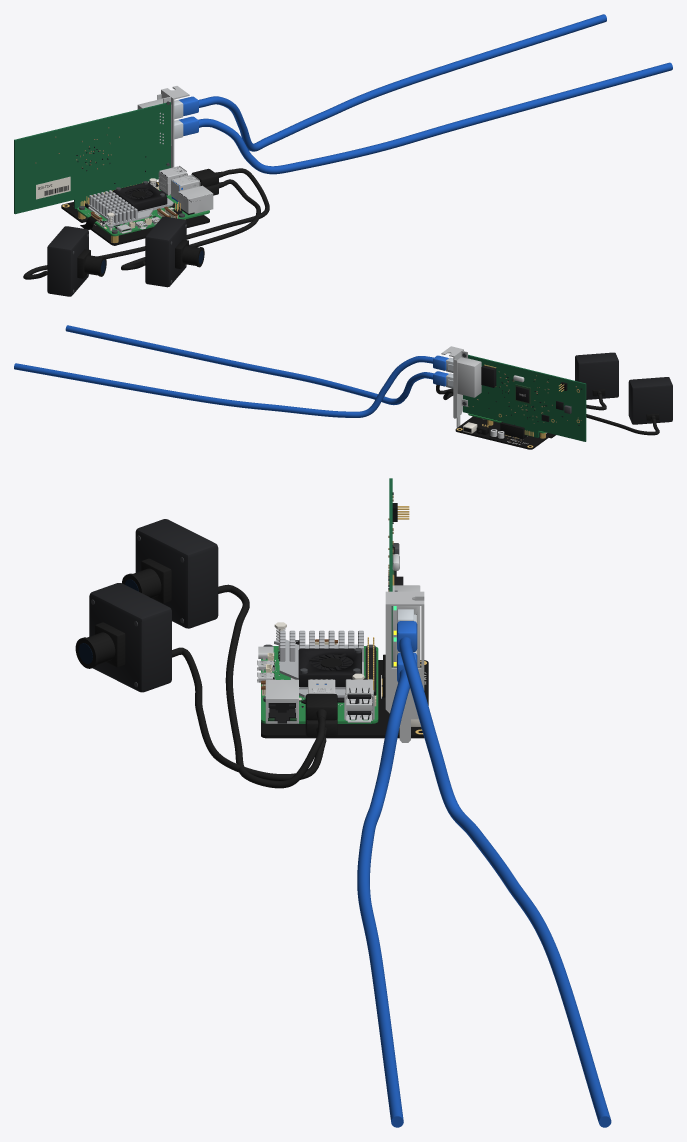
Rendered from assembly.glb.
The picture shows the model from 3 angles, top to bottom: view 1: azimuth 30°, elevation 25°; view 2: azimuth 150°, elevation 25°; view 3: azimuth 270°, elevation 25°; orthographic projection. The views are drawn at different scales.
Visible parts, largest first — view 1: i350_t2, cable_R, camera_1, cable_L, camera_2, pi5, active_cooler, pcie_adapter; view 2: i350_t2, cable_L, cable_R, camera_1, camera_2, pcie_adapter; view 3: camera_1, camera_2, cable_L, cable_R, pi5, i350_t2, active_cooler, pcie_adapter.
Boxes of the visible parts, <box> form: i350_t2: <box>14,86,189,214</box>; cable_R: <box>174,62,672,174</box>; camera_1: <box>23,168,269,296</box>; cable_L: <box>174,14,606,151</box>; camera_2: <box>121,179,260,287</box>; pi5: <box>77,165,213,236</box>; active_cooler: <box>88,178,173,230</box>; pcie_adapter: <box>61,181,209,245</box>; i350_t2: <box>441,346,586,441</box>; cable_L: <box>14,355,453,417</box>; cable_R: <box>65,325,453,405</box>; camera_1: <box>436,377,672,435</box>; camera_2: <box>443,352,618,410</box>; pcie_adapter: <box>455,416,548,449</box>; camera_1: <box>122,519,337,788</box>; camera_2: <box>75,583,337,780</box>; cable_L: <box>397,609,611,1127</box>; cable_R: <box>357,651,417,1127</box>; pi5: <box>257,637,378,723</box>; i350_t2: <box>385,478,424,742</box>; active_cooler: <box>274,622,367,697</box>; pcie_adapter: <box>261,644,428,738</box>.
Size of the model in its own units: 0.606 by 0.0801 by 0.2554.
